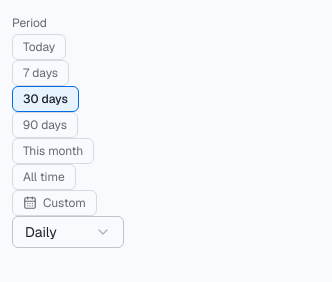
Test: RangePicker › disables granularity for a single day, where it can change nothing
expect the dropdown named "Group by" is enabled: met, box [12,216,124,248]
Click the button "Today". click: (39, 47)
box: [12,34,66,60]
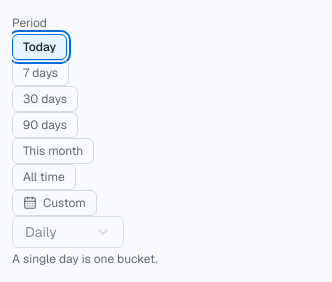
expect the dropdown named "Group by" is disabled: met, box [12,216,124,248]
